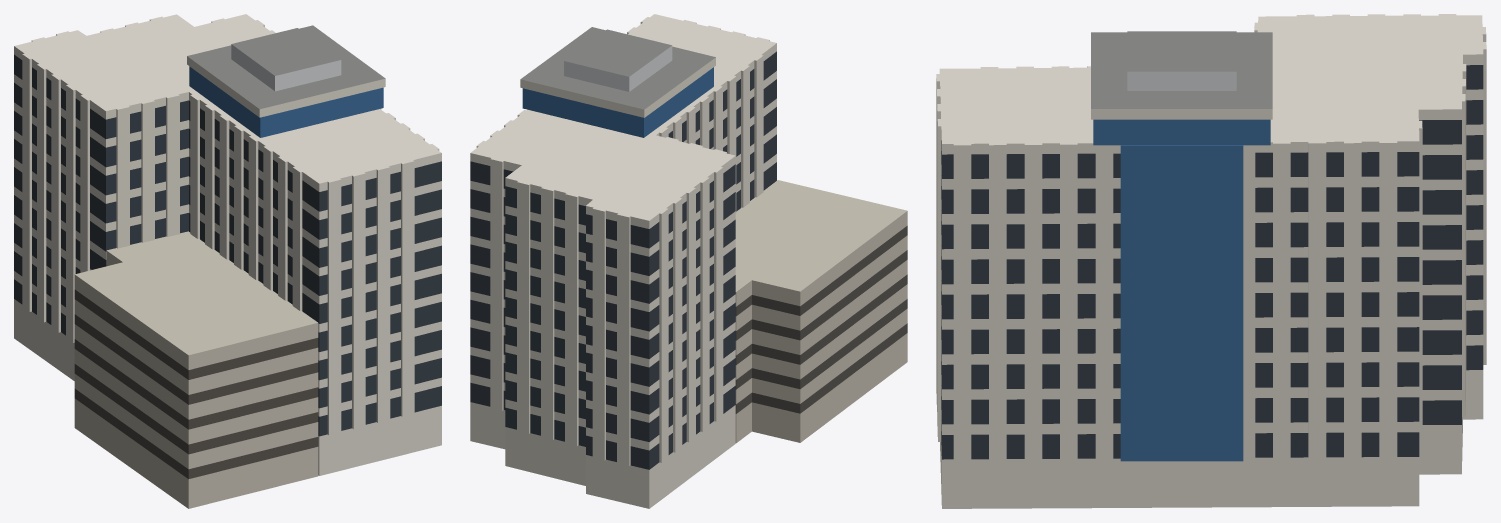
Rendered from platinum_hotel_and_spa_w135298867.glb.
3 renders of one model, left to right at view 1: azimuth 30°, elevation 25°; view 2: azimuth 150°, elevation 25°; view 3: azimuth 270°, elevation 25°, orthographic. The views are drawn at different scales.
Visible parts, largest first — view 1: Tower; view 2: Tower; view 3: Tower.
Part boxes in pixels (box(x1,y1,x2,y2)): Tower: box(14, 14, 441, 508); Tower: box(470, 14, 907, 508); Tower: box(936, 14, 1486, 508).
Size of the model in its own units: 55.17 by 68.1 by 80.62.
